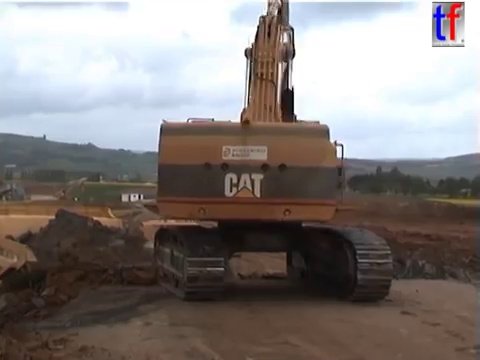excavator: (148, 1, 398, 304)
truck: (1, 202, 195, 332), (134, 216, 224, 292)
